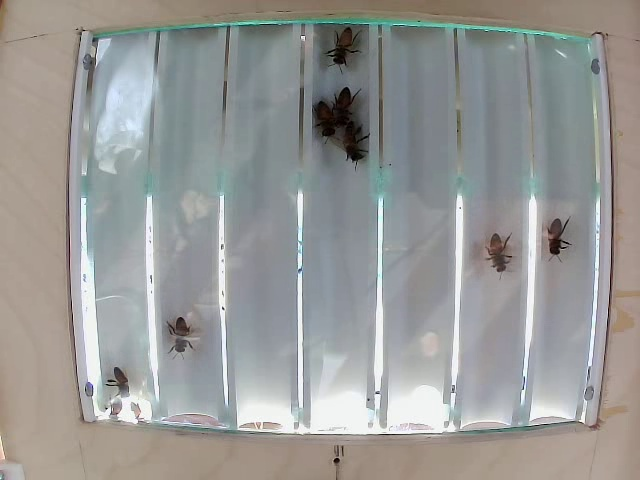bee: (334, 29, 364, 79), (545, 212, 572, 267), (343, 125, 373, 165), (331, 94, 360, 133), (483, 233, 511, 273), (311, 103, 336, 143), (171, 319, 198, 354), (107, 366, 140, 393)
